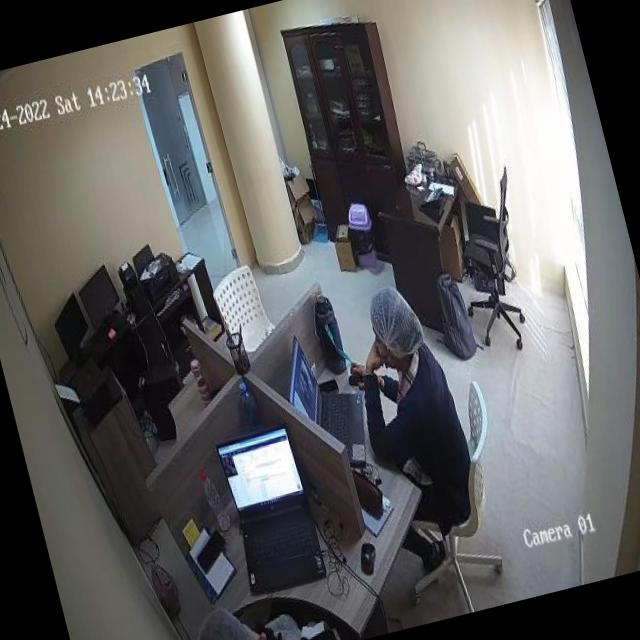hairnet: (365, 282, 424, 359)
